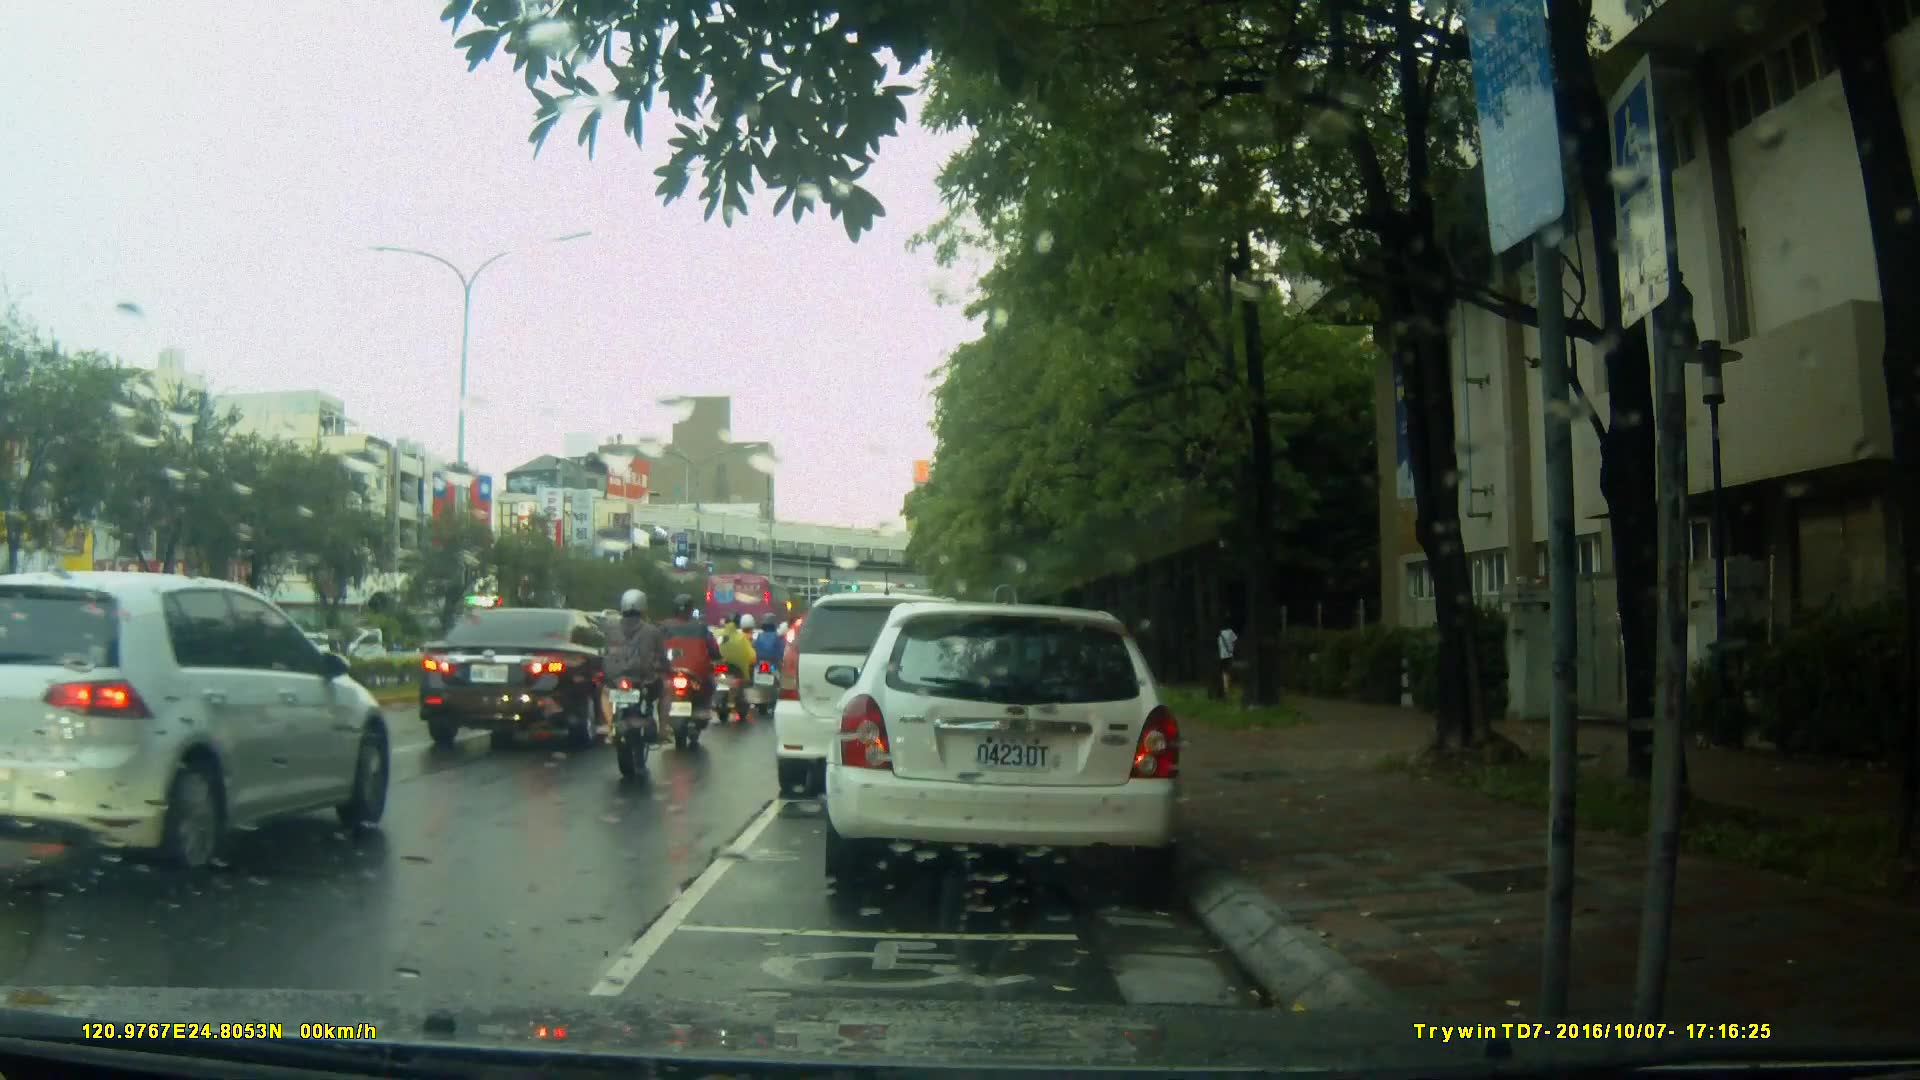pedestrian: (1212, 615, 1243, 697)
rider: (593, 587, 670, 799), (664, 591, 724, 753), (708, 608, 759, 732), (750, 610, 796, 716)
vehicle: (3, 566, 401, 880), (835, 594, 1194, 898), (776, 590, 1026, 784), (418, 605, 657, 757), (701, 572, 793, 648)
